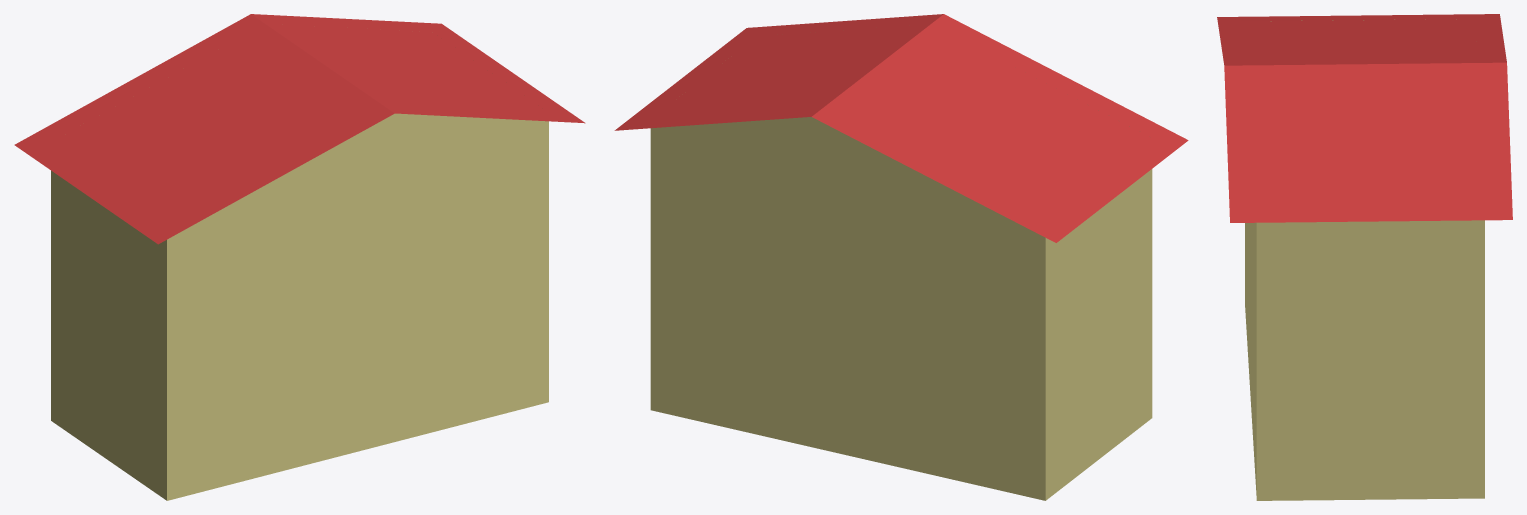
3 views of the same model, side by side, from view 1: azimuth 30°, elevation 25°; view 2: azimuth 150°, elevation 25°; view 3: azimuth 270°, elevation 25° (orthographic). The views are drawn at different scales.
Bounding box in the file's own units: 9.49 × 5.39 × 7.04.
